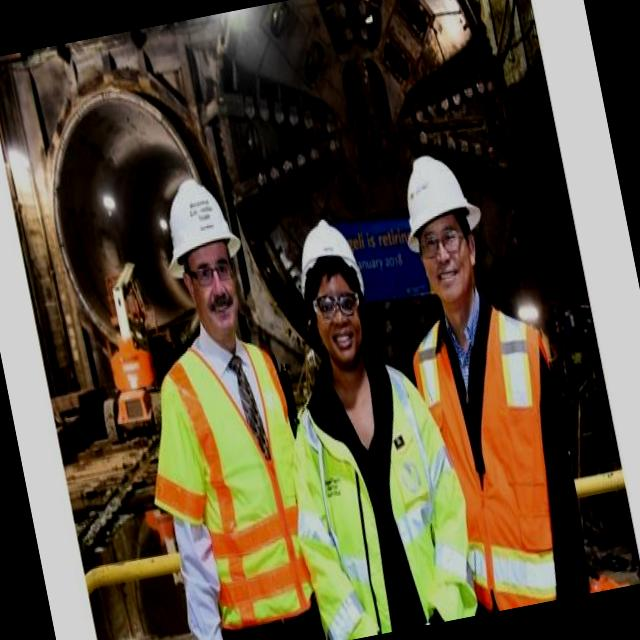goggles: (304, 280, 366, 326)
helmet: (386, 144, 492, 264), (148, 171, 248, 286), (284, 208, 372, 310)
no-goggles: (186, 258, 240, 297), (415, 227, 472, 263)
vest: (285, 346, 485, 640), (146, 313, 320, 634), (414, 312, 594, 617)
